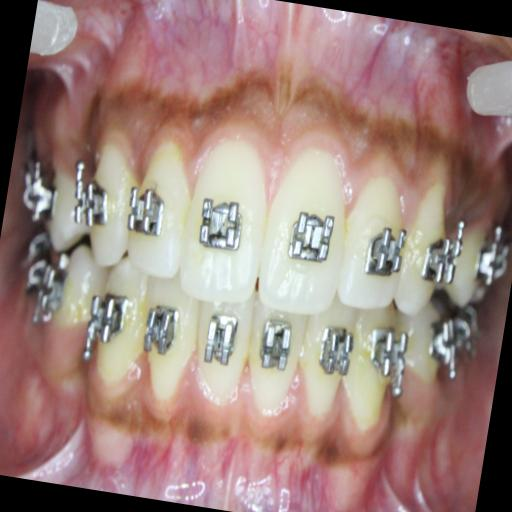correct_brace: (190, 184, 250, 257), (284, 204, 336, 271), (363, 216, 409, 284), (121, 182, 170, 244), (420, 224, 462, 292), (72, 168, 112, 234)
incorrect_brace: (334, 156, 419, 316), (121, 130, 199, 290)
